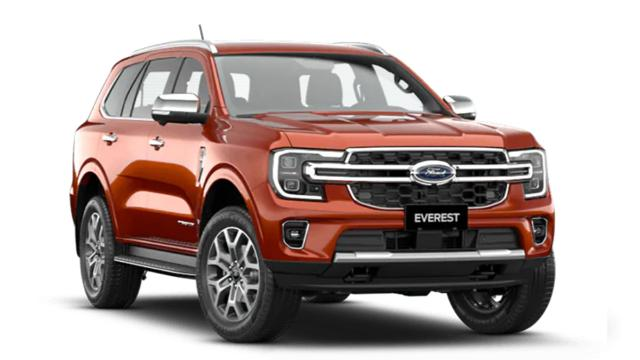ford: (68, 24, 556, 344)
